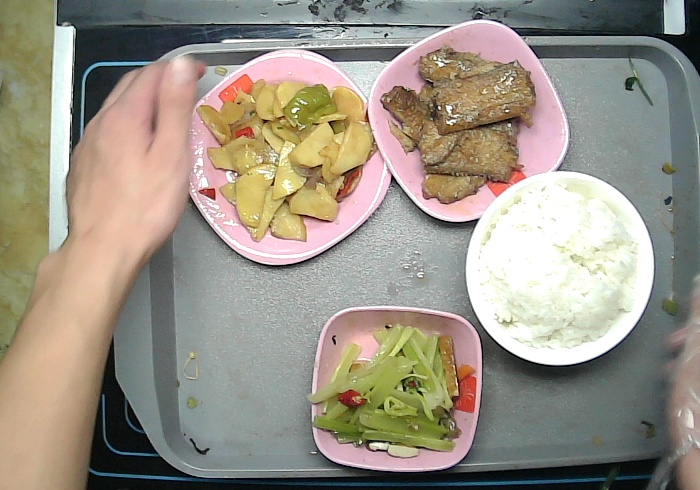SHKJ-Fan_Wan: (464, 169, 655, 371)
SHKJ-Fen_Se_Cai_Die: (370, 20, 570, 223)
SHKJ-Fen_Se_Si_Fang_Cai_Die: (181, 49, 390, 268)
SHKJ-Fen_Se_Xiao_Fang_Die: (310, 305, 482, 475)
